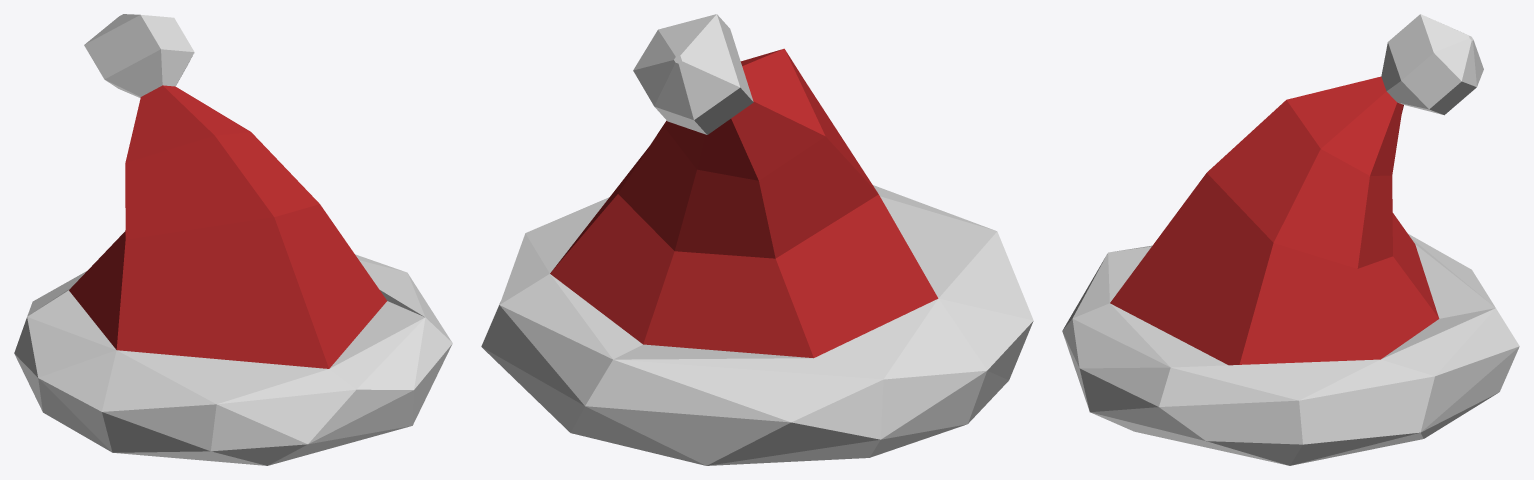
The model's file is santahatSolo.fbx.
The picture shows the model from 3 angles, left to right: view 1: azimuth 30°, elevation 25°; view 2: azimuth 150°, elevation 25°; view 3: azimuth 270°, elevation 25°; orthographic projection. The views are drawn at different scales.
Visible parts, largest first — view 1: Torus; view 2: Torus; view 3: Torus.
Part boxes in pixels (x1,y1,x2,y2): Torus: (14, 14, 452, 465); Torus: (481, 14, 1033, 465); Torus: (1062, 14, 1519, 465).
Bounding box in the file's own units: 251 × 213 × 252.
